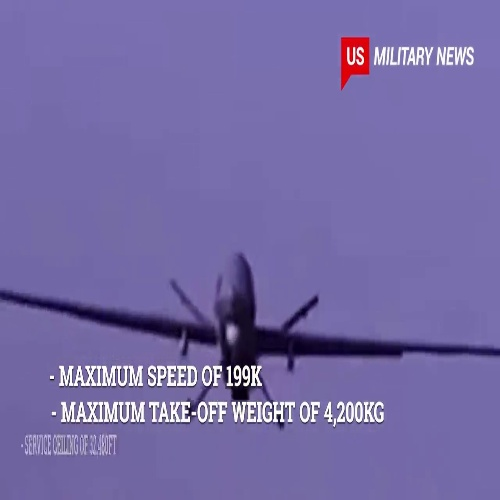uav510: (1, 250, 499, 429)
